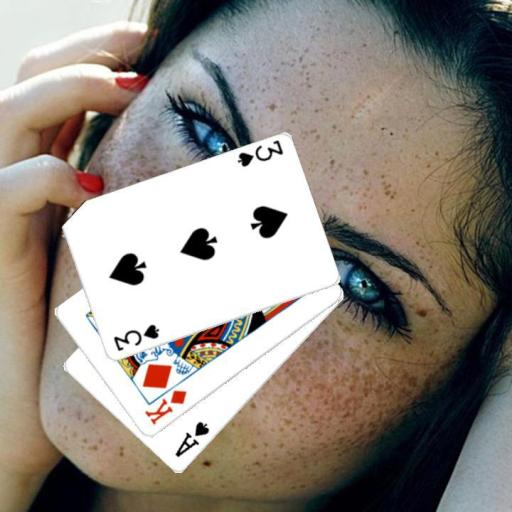3S: (110, 322, 161, 354), (234, 137, 284, 169)
AS: (172, 419, 212, 459)
KD: (142, 387, 189, 427)
